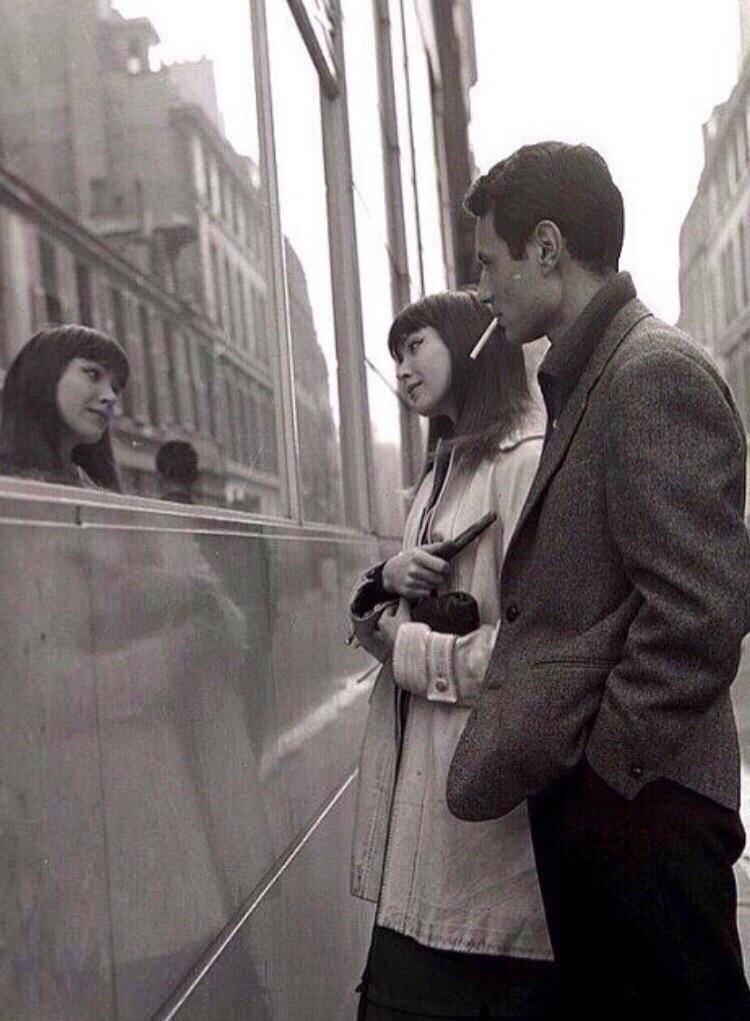cigarette: (469, 316, 500, 359)
